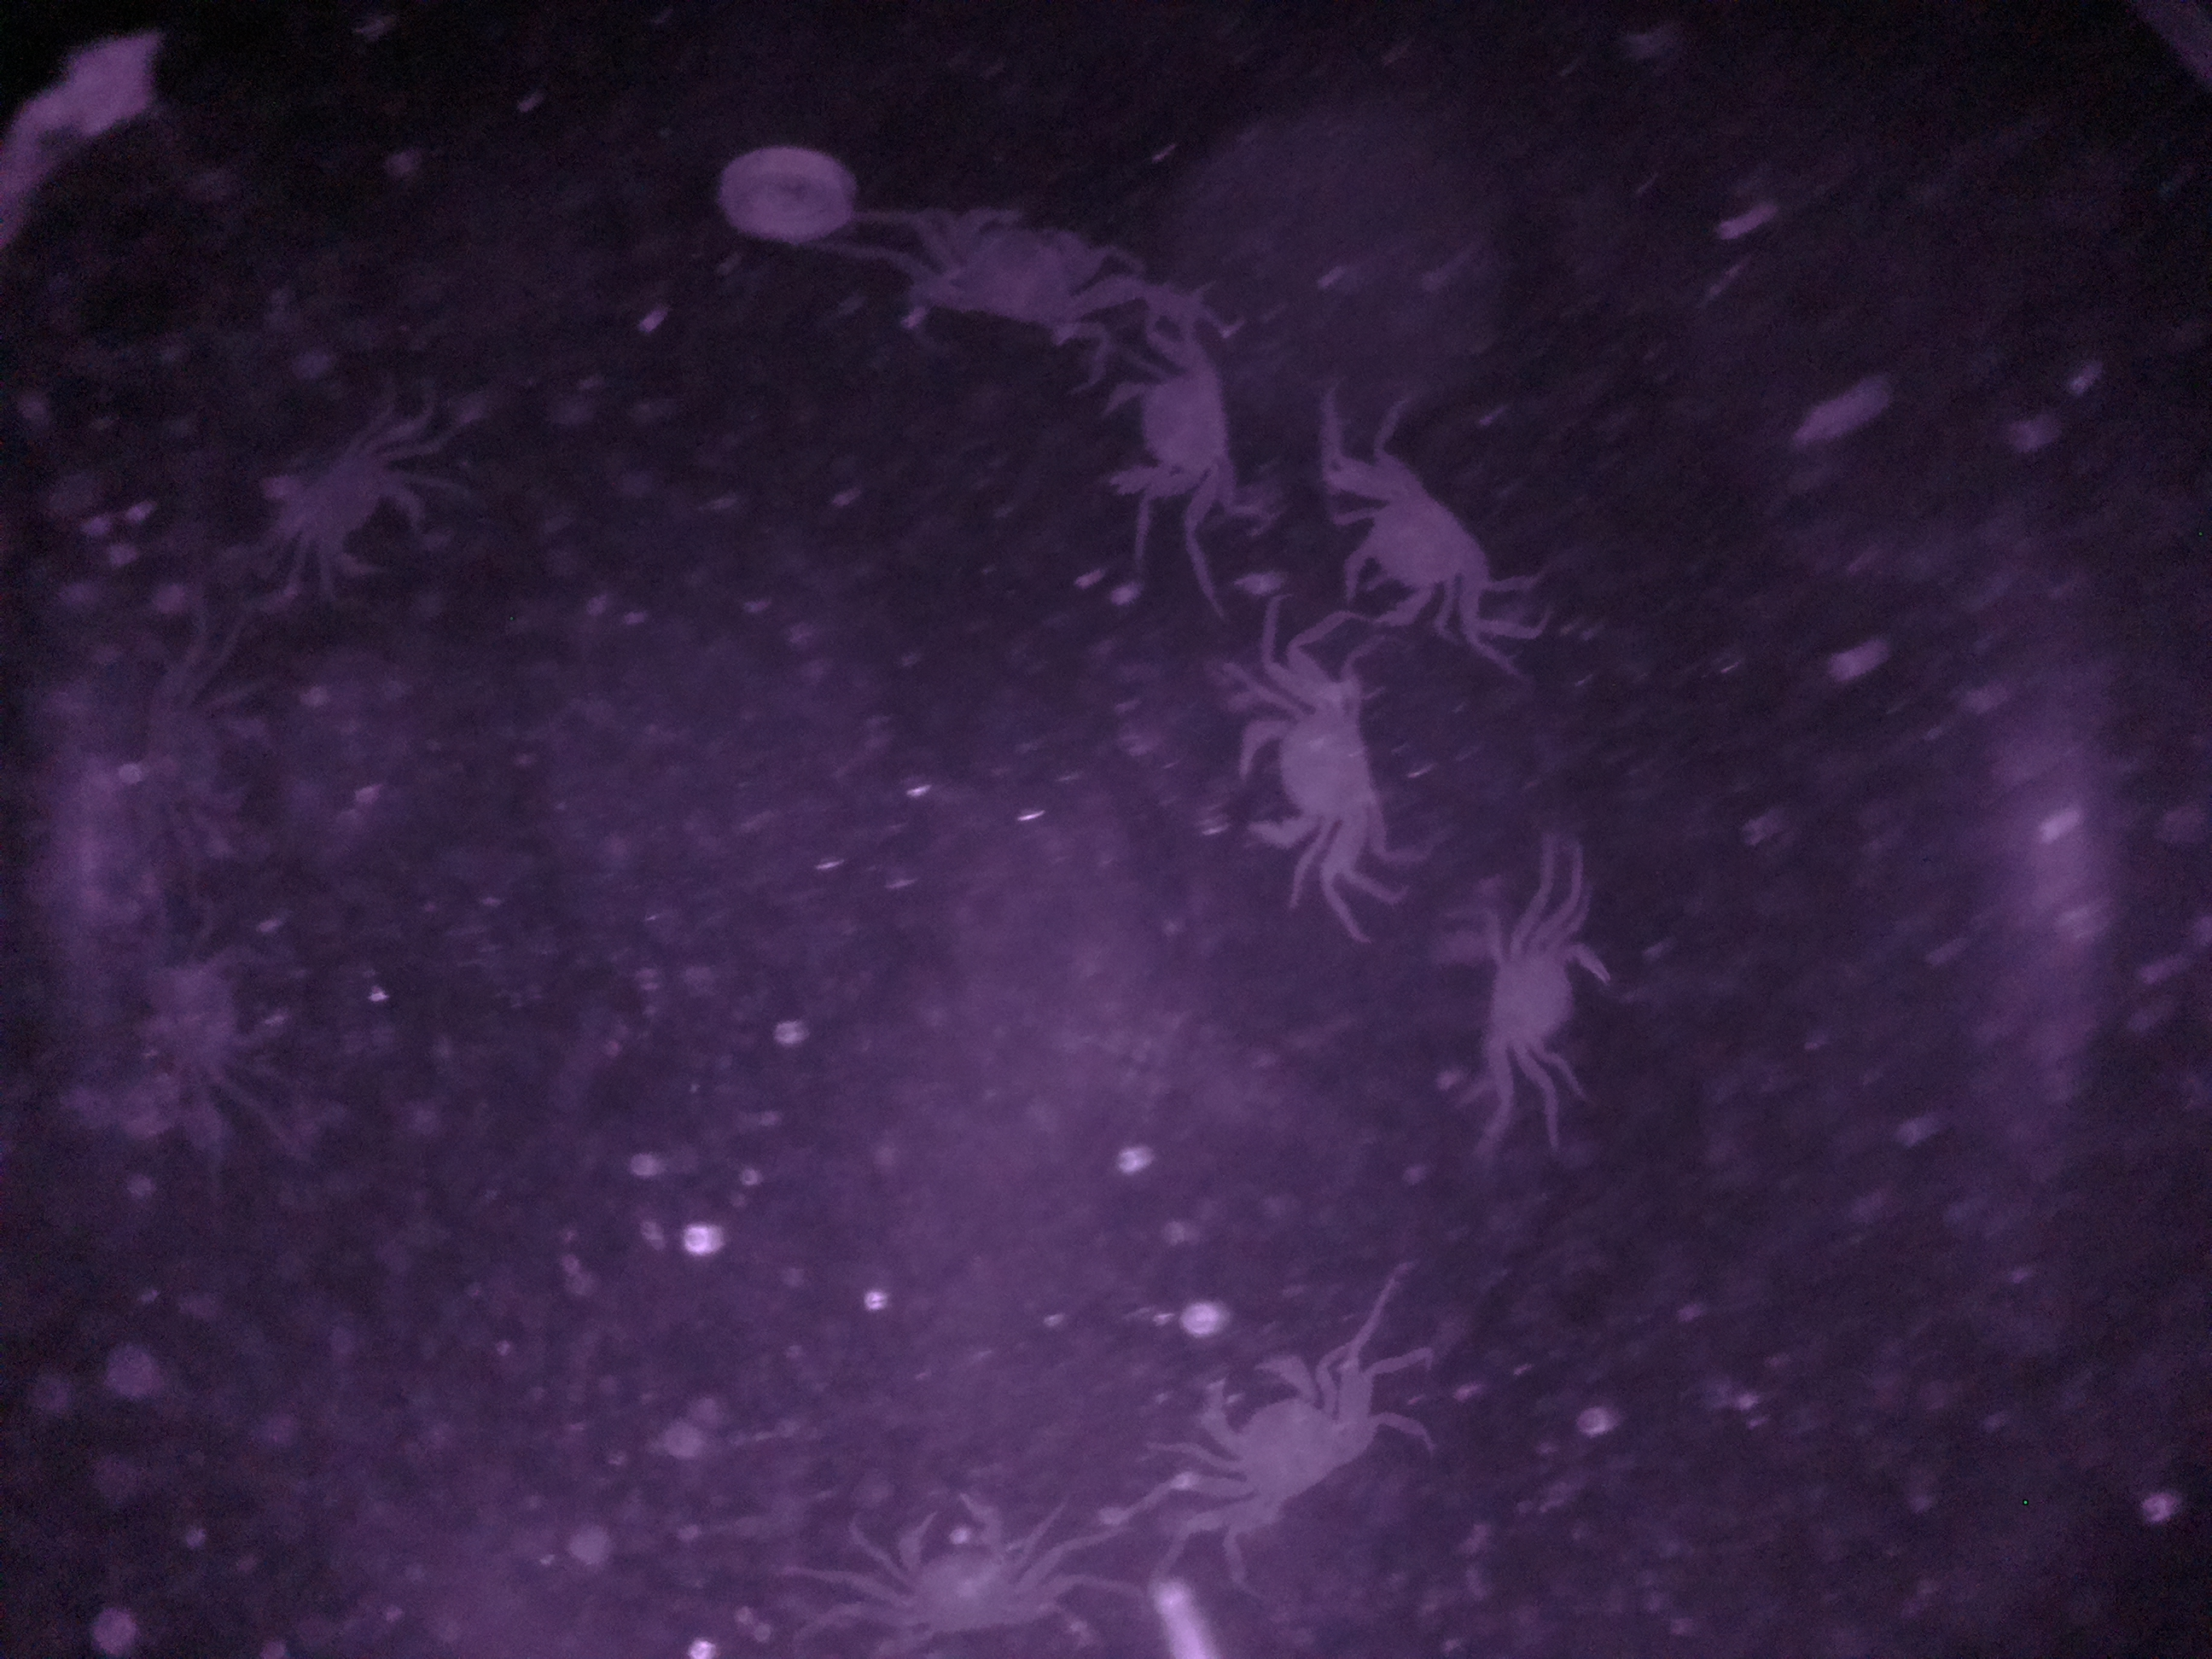Crab: (1169, 1344, 1388, 1532), (829, 1480, 1073, 1643), (1221, 671, 1390, 894), (1324, 450, 1508, 638), (1089, 321, 1245, 530), (1465, 889, 1613, 1103)
